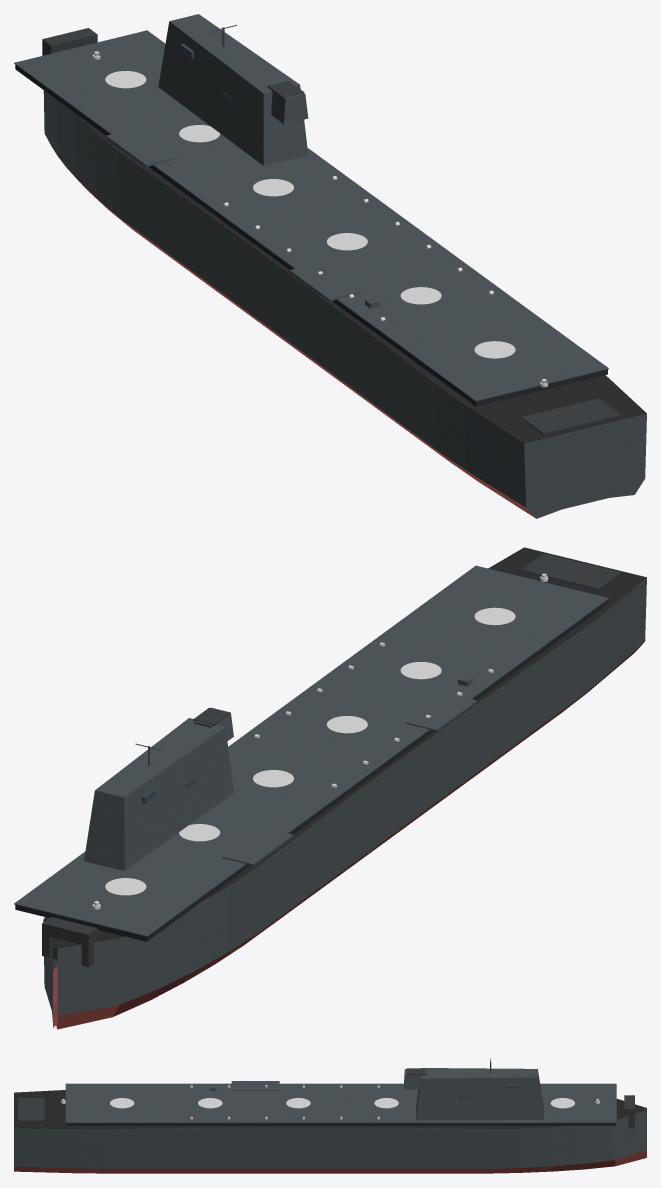
File: type_075.glb
3 renders of one model, top to bottom at view 1: azimuth 30°, elevation 25°; view 2: azimuth 150°, elevation 25°; view 3: azimuth 270°, elevation 25°, orthographic. The views are drawn at different scales.
Parts seen in each view (by area): view 1: 075_hull, 075_spot0, 075_funnel_top; view 2: 075_hull, 075_spot0, 075_funnel_top; view 3: 075_hull, 075_spot0, 075_funnel_top.
Boxes of the visible parts, x1,y1,x2,y2 form: 075_hull: (14,14,646,518); 075_spot0: (92,51,548,387); 075_funnel_top: (42,28,620,443); 075_hull: (14,547,646,1029); 075_spot0: (92,573,548,909); 075_funnel_top: (42,553,620,966); 075_hull: (14,1058,646,1173); 075_spot0: (61,1085,599,1119); 075_funnel_top: (18,1068,634,1128).
Size of the model in its own units: 37 by 46.09 by 237.
6 materials, 2 textured.
